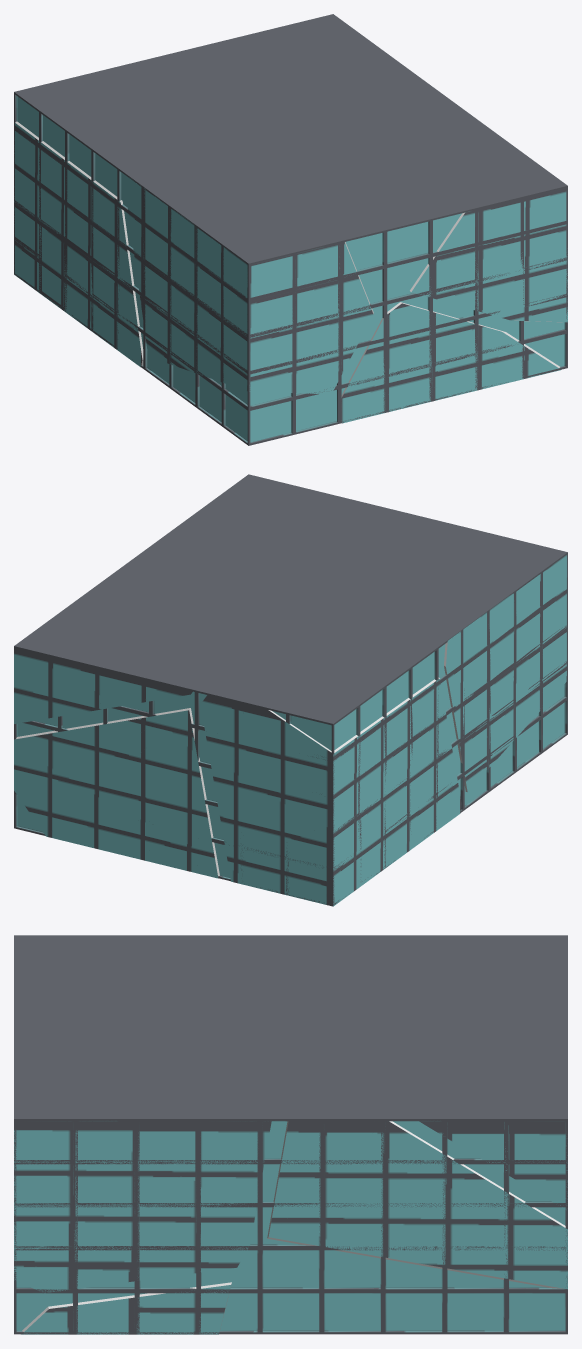
The model's file is Building01_02_correct.fbx.
3 renders of one model, top to bottom at view 1: azimuth 30°, elevation 25°; view 2: azimuth 150°, elevation 25°; view 3: azimuth 270°, elevation 25°, orthographic. The views are drawn at different scales.
Parts seen in each view (by area): view 1: batiment full, Cube_cell.001, Cube_cell.002, Cube_cell.006, Cube_cell.003; view 2: batiment full, Cube_cell.002, Cube_cell.005, Cube_cell.001, Cube_cell.004; view 3: batiment full, Cube_cell.006, Cube_cell.005, Cube_cell.003, Cube_cell.004.
Boxes of the visible parts, x1=… form: batiment full: x1=14, y1=14, x2=567, y2=445; Cube_cell.001: x1=126, y1=177, x2=373, y2=394; Cube_cell.002: x1=14, y1=121, x2=143, y2=367; Cube_cell.006: x1=410, y1=188, x2=567, y2=322; Cube_cell.003: x1=340, y1=302, x2=561, y2=423; batiment full: x1=14, y1=474, x2=567, y2=905; Cube_cell.002: x1=200, y1=677, x2=461, y2=906; Cube_cell.005: x1=14, y1=708, x2=219, y2=878; Cube_cell.001: x1=444, y1=553, x2=567, y2=791; Cube_cell.004: x1=14, y1=646, x2=193, y2=723; batiment full: x1=14, y1=935, x2=567, y2=1334; Cube_cell.006: x1=14, y1=1119, x2=271, y2=1292; Cube_cell.005: x1=267, y1=1119, x2=567, y2=1289; Cube_cell.003: x1=21, y1=1282, x2=231, y2=1334; Cube_cell.004: x1=419, y1=1119, x2=567, y2=1209.
Bounding box in the file's own units: 550 × 301 × 700.
